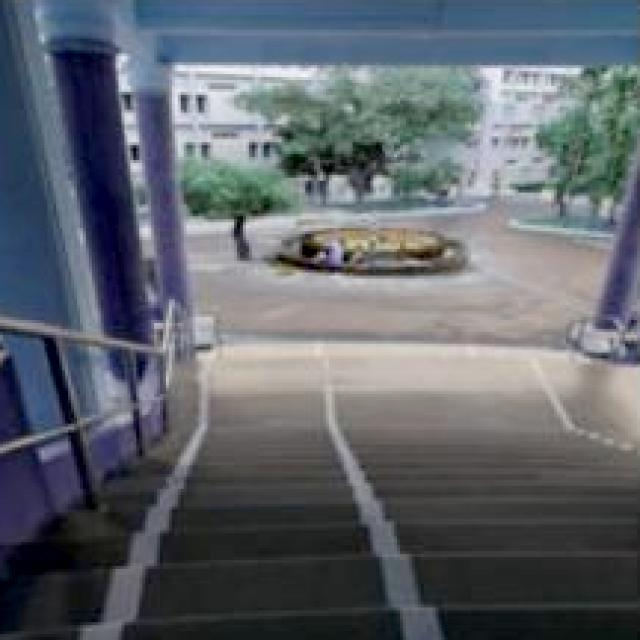downstair: (176, 422, 528, 588)
